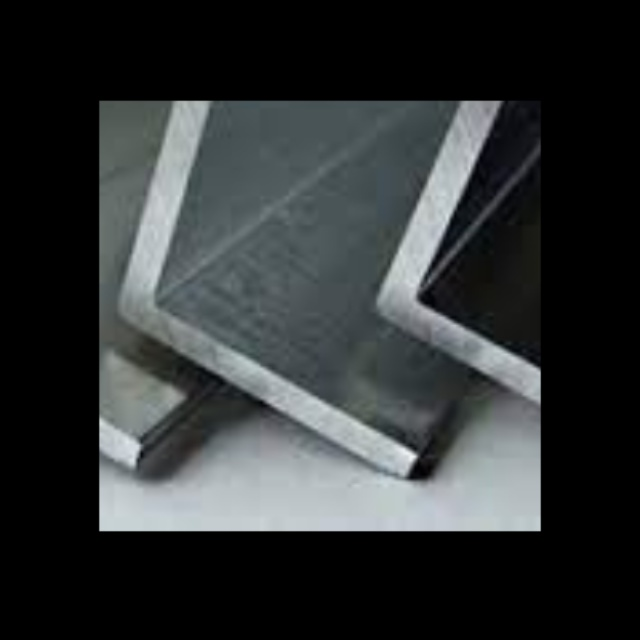Angle: (135, 101, 404, 461), (403, 101, 541, 454), (99, 101, 124, 450)
